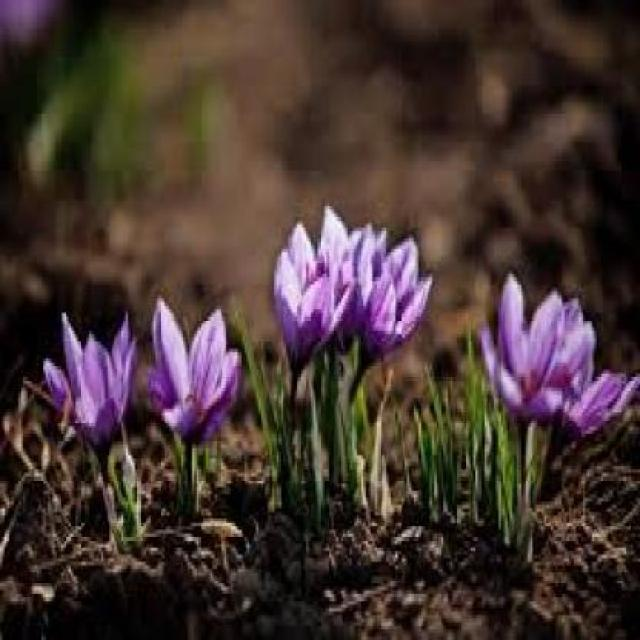Flower: (145, 293, 241, 445), (480, 277, 569, 435), (44, 310, 136, 458), (355, 221, 433, 377), (274, 224, 346, 376)
